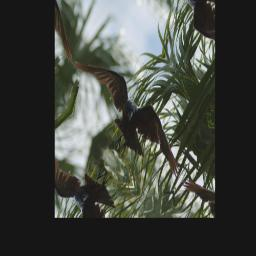Crow: (62, 31, 192, 203)
